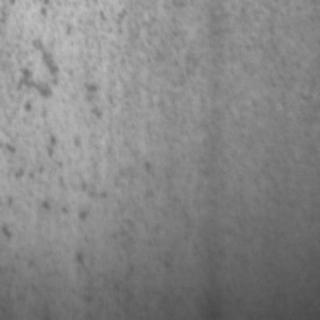pitted_surface: (5, 0, 304, 310)
